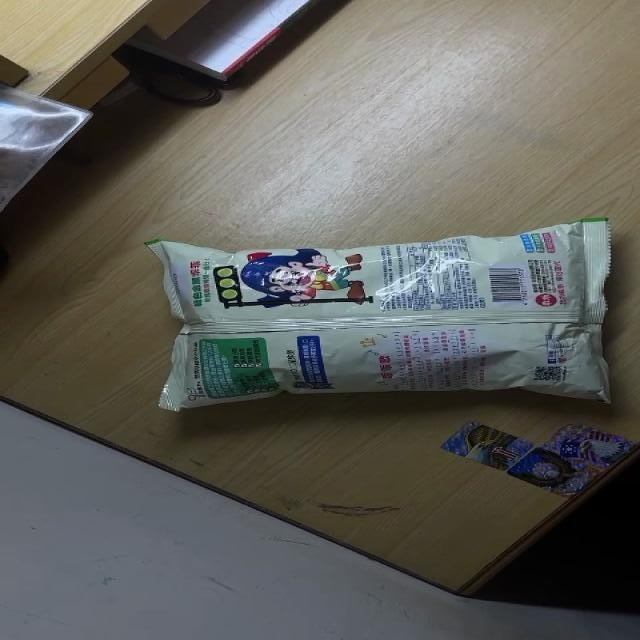Good-Luck: (142, 215, 616, 413)
